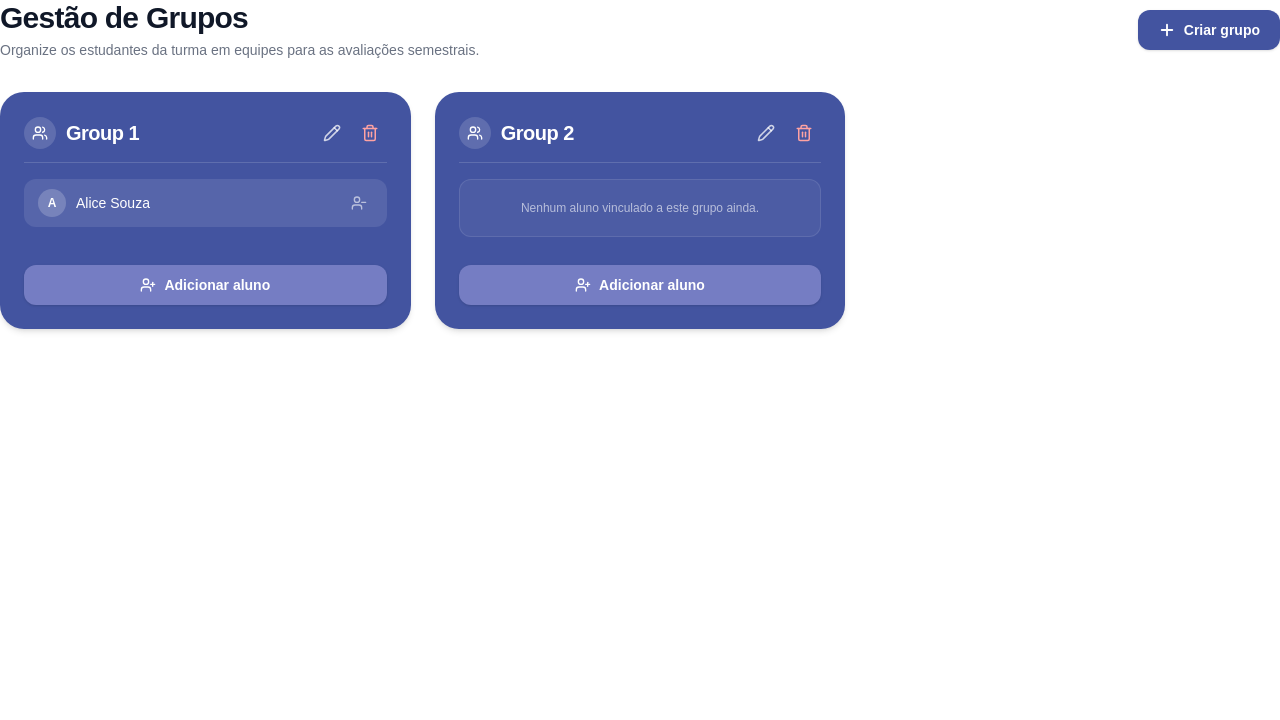
it: [US06] Tutor groups panel integration › should DELETE the group's route, remove it and offer its members again for grouping
Check: the element "Group 1" is shown, box x1=0 y1=92 x2=411 y2=329
Click the button named "excluir" in the row of "Group 1".
click(370, 133)  # box x1=353 y1=116 x2=387 y2=150
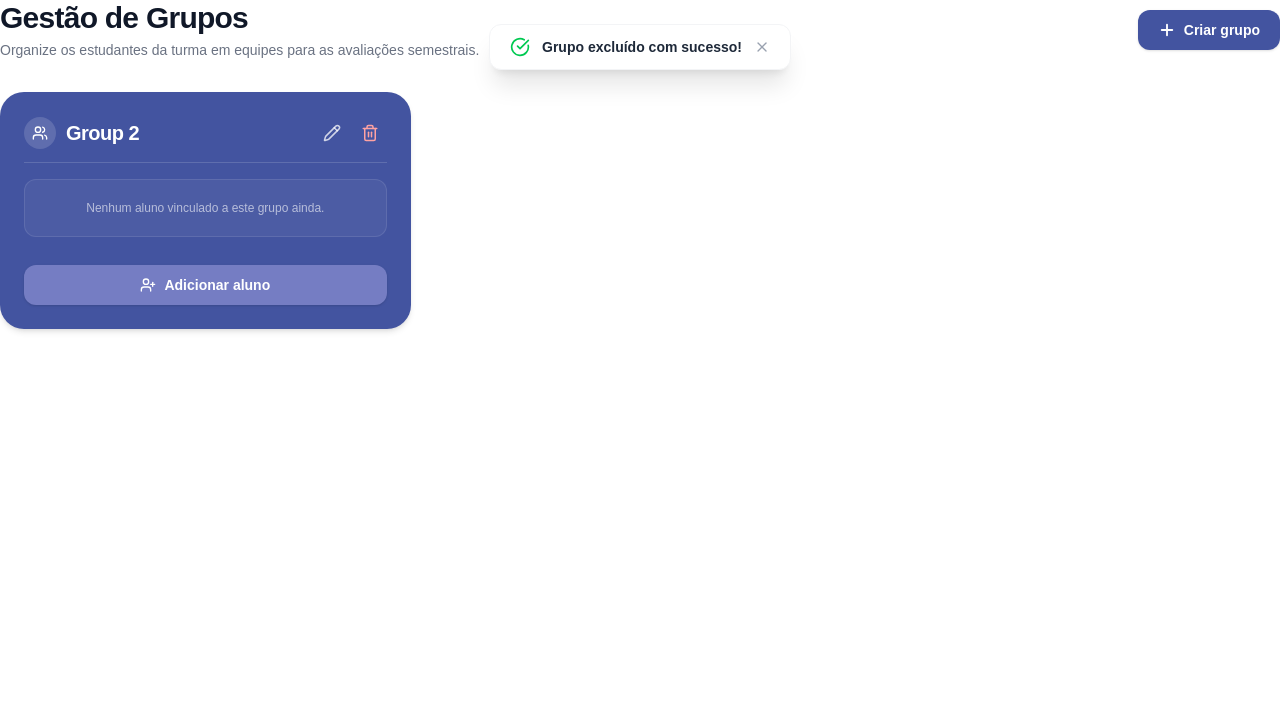
Check: the heading "Group 1" is gone
Click the button "Adicionar aluno".
click(205, 285)  # box x1=24 y1=265 x2=387 y2=305
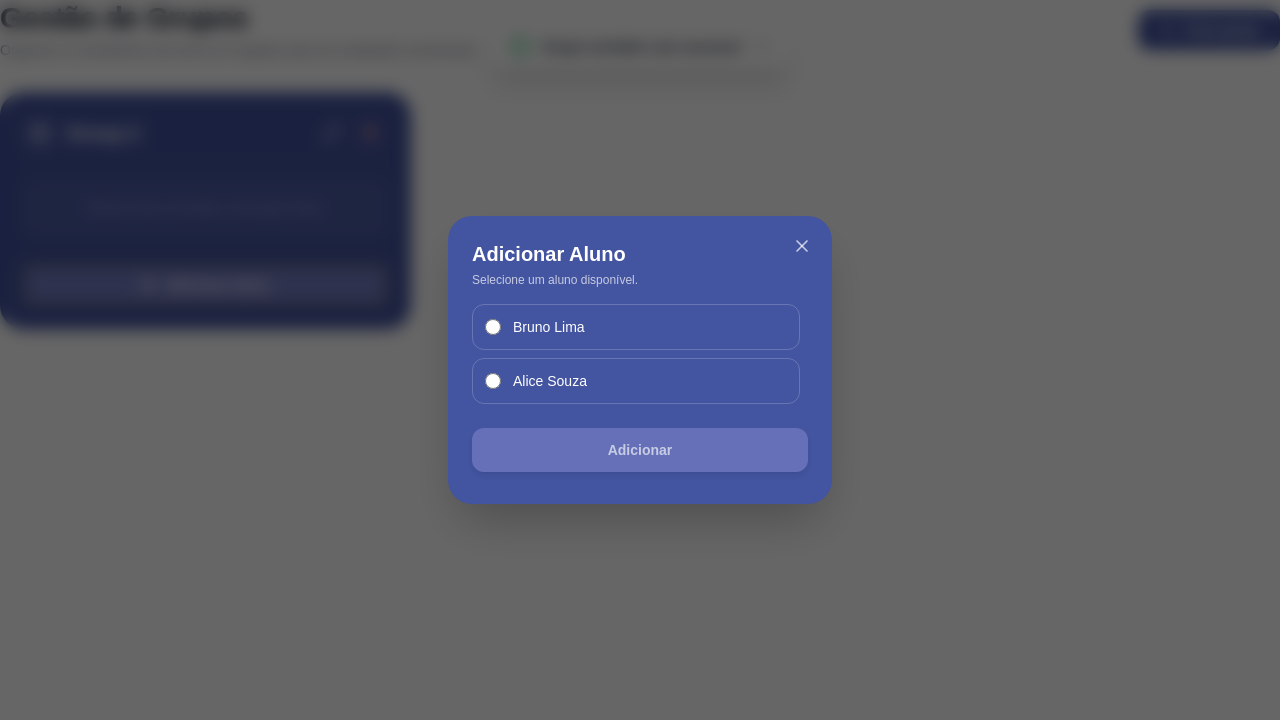
Check: the radio button labelled "Alice Souza" is shown, box x1=485 y1=373 x2=501 y2=389
